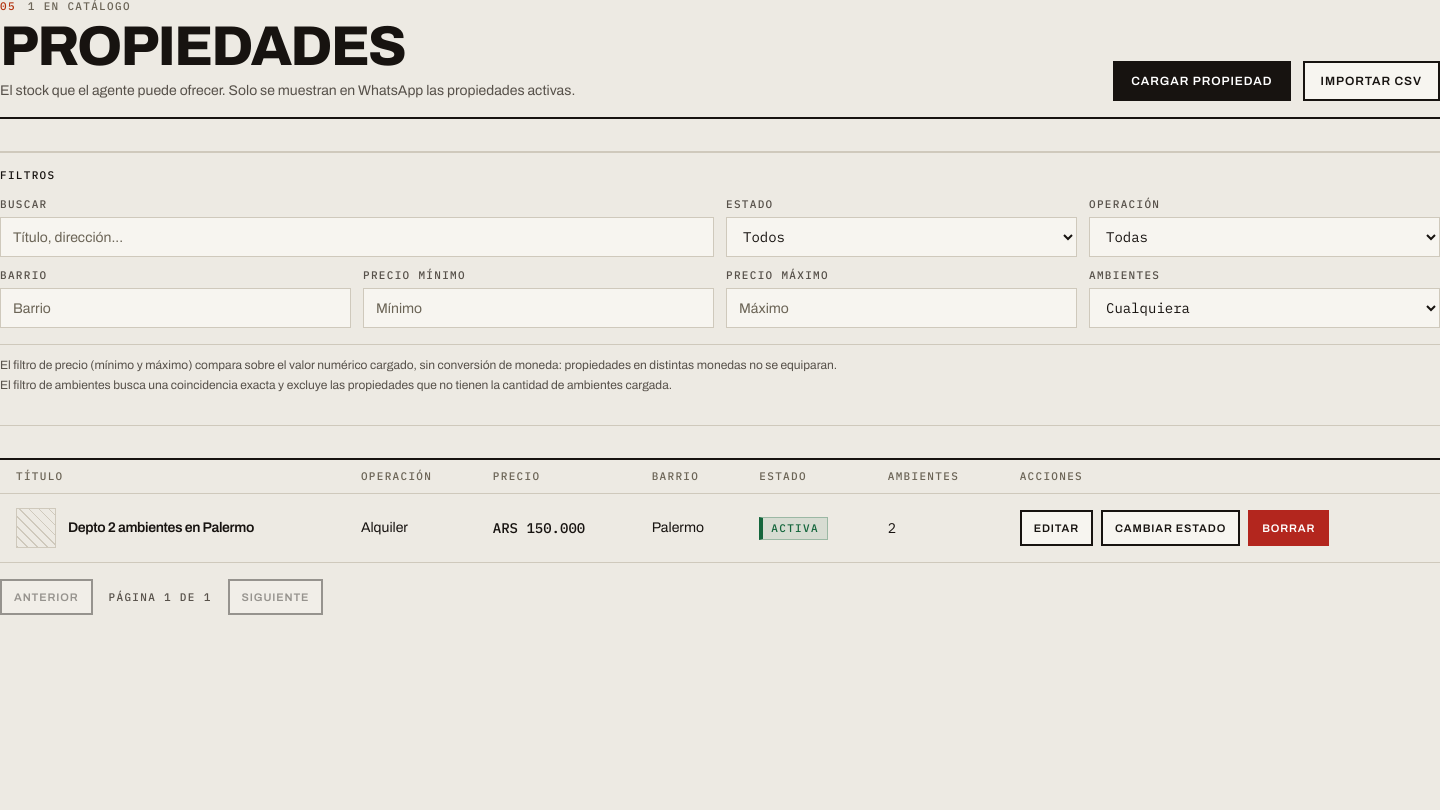
Test: PropertiesPage › tras un 409 al borrar, la fila sigue en la tabla y se ve el ErrorBanner de DeletePropertyButton
The image size is (1440, 810).
expect the row with test id "property-row-prop-1" is shown: met, box left=0, top=494, right=1439, bottom=563
Click the button "Borrar" at (1289, 528), box left=1248, top=510, right=1329, bottom=546
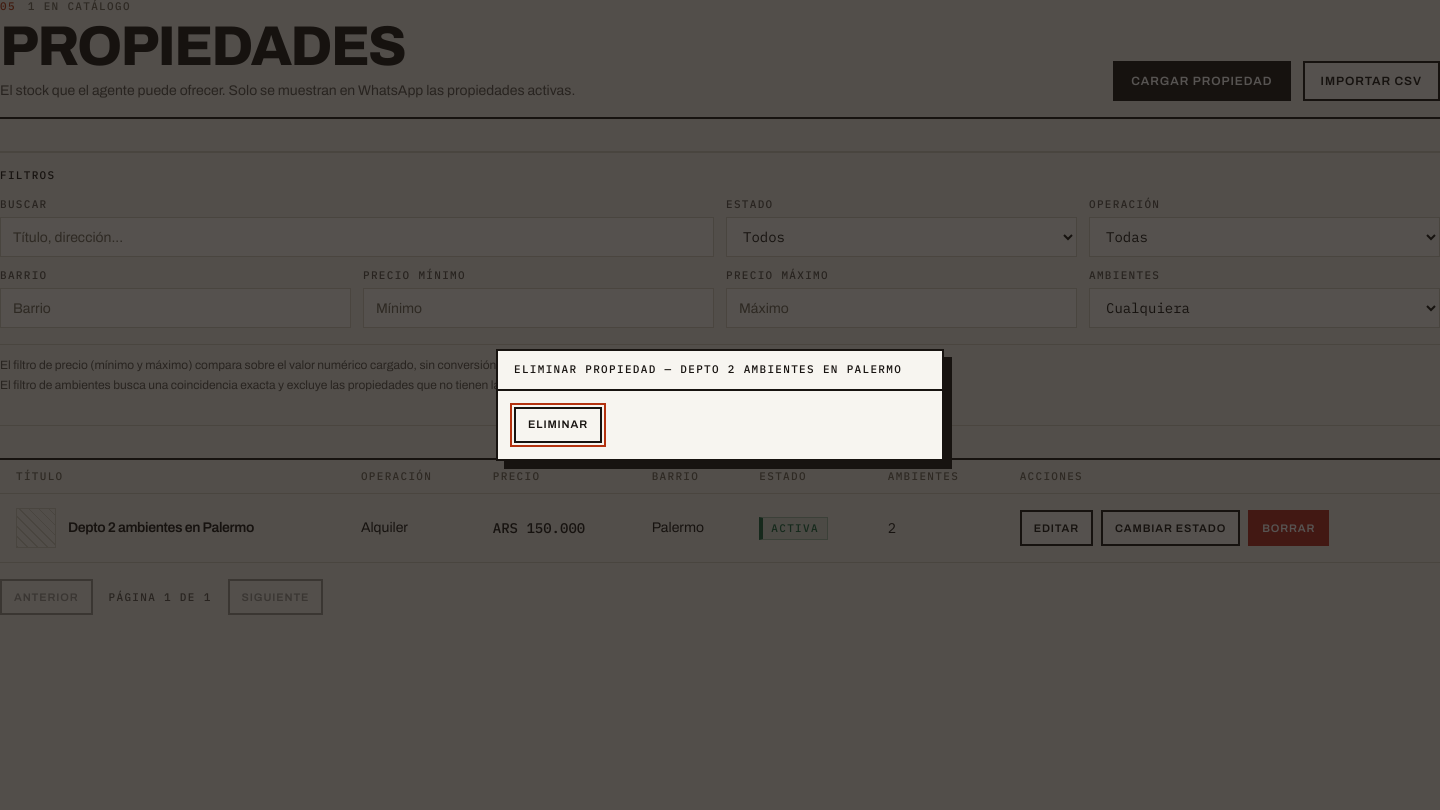
Click the button with test id "delete-property-button" at (558, 425), box left=514, top=407, right=602, bottom=443
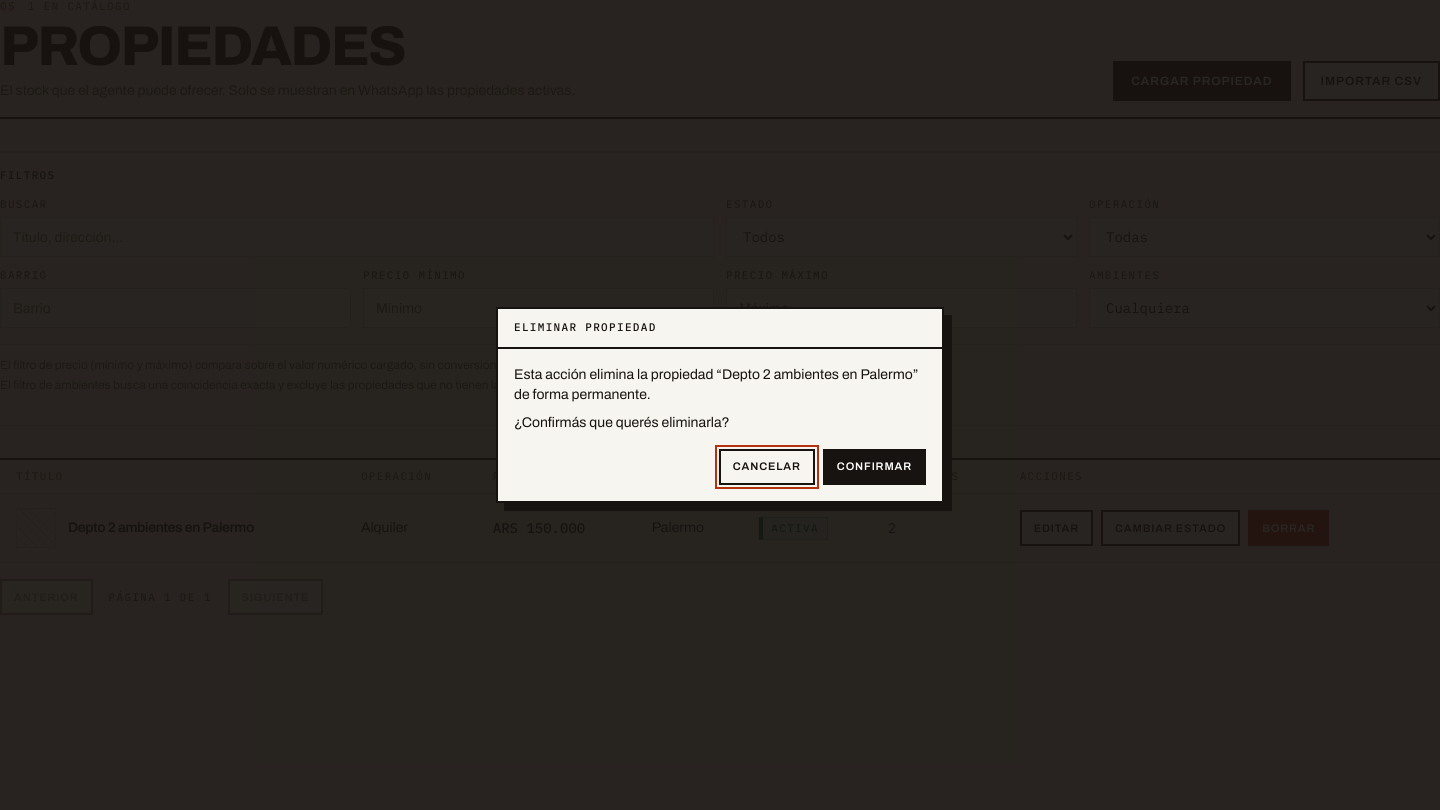
Click the button with test id "delete-property-confirm" at (874, 467), box left=823, top=449, right=926, bottom=485
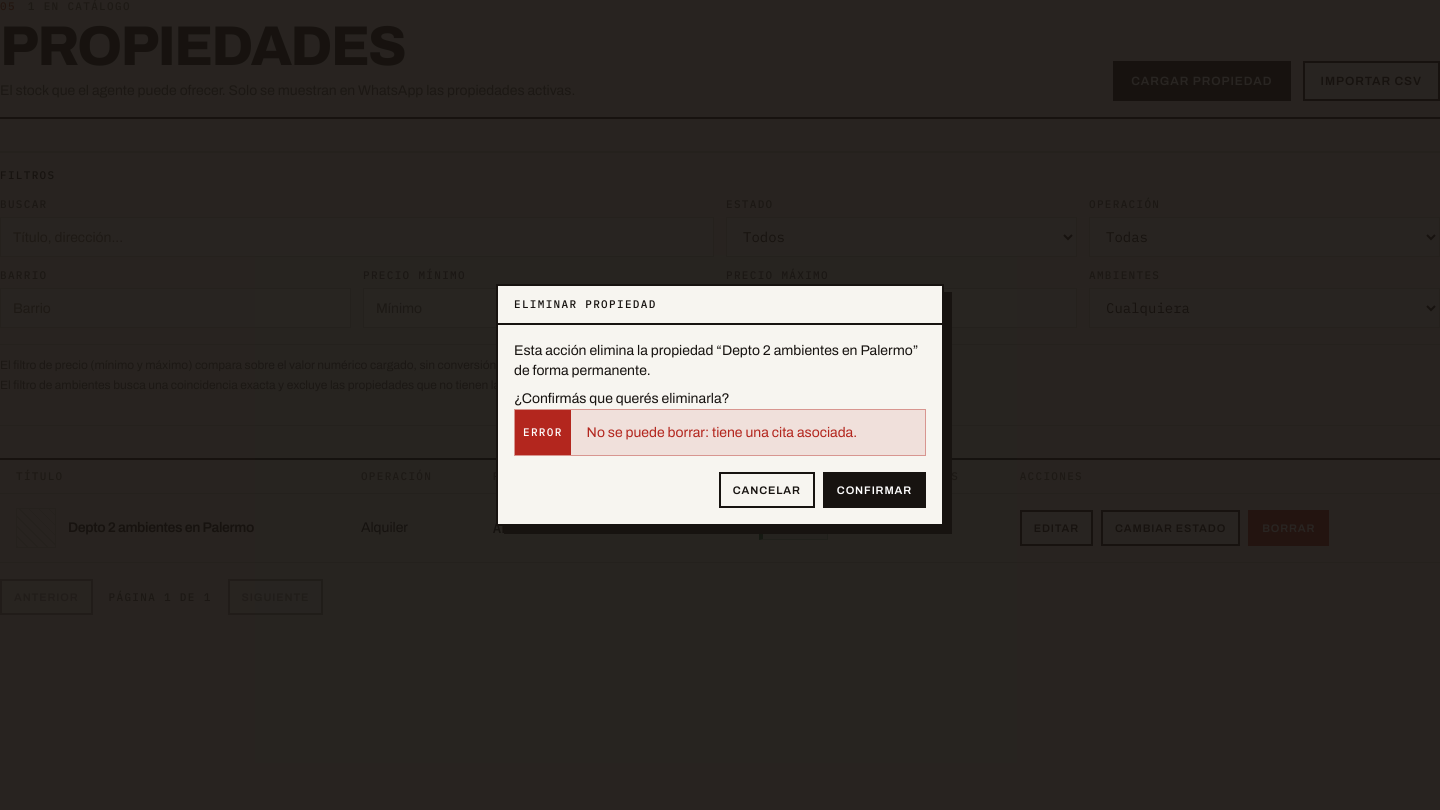
expect the row with test id "property-row-prop-1" is shown: met, box left=0, top=494, right=1439, bottom=563
expect the message with test id "error-banner" shows "No se puede borrar: tiene una cita asociada.": met, box left=587, top=425, right=857, bottom=440
